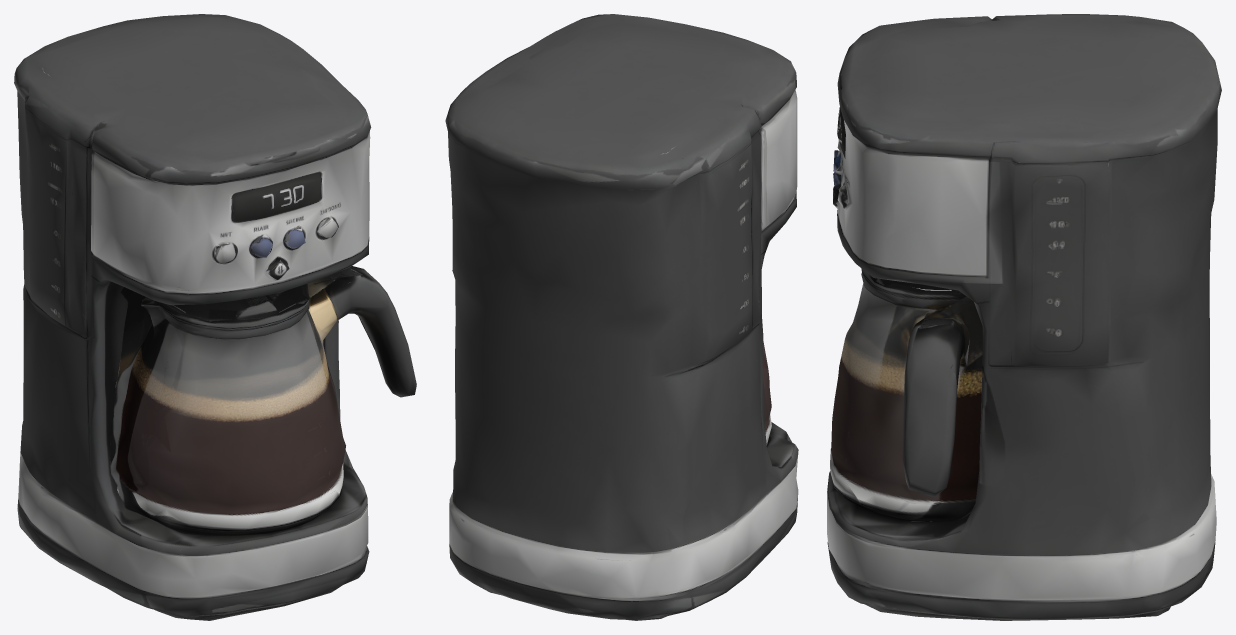
File: kahvemakine.fbx
3 views of the same model, side by side, from view 1: azimuth 30°, elevation 25°; view 2: azimuth 150°, elevation 25°; view 3: azimuth 270°, elevation 25° (orthographic). The views are drawn at different scales.
Parts seen in each view (by area): view 1: Mesh_0; view 2: Mesh_0; view 3: Mesh_0.
Part boxes in pixels (left/top/right/bottom): Mesh_0: left=14, top=14, right=416, bottom=620; Mesh_0: left=445, top=14, right=798, bottom=620; Mesh_0: left=827, top=14, right=1221, bottom=620.
Size of the model in its own units: 129 by 191 by 137.
1 material, 1 textured.
